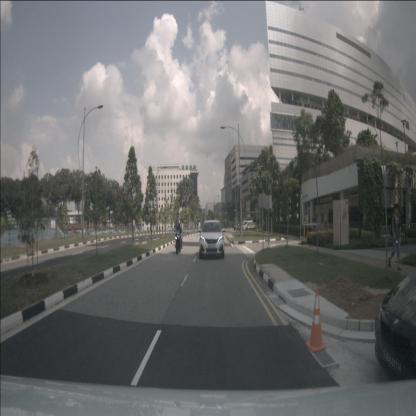human-pedestrian-adult: (388, 203, 402, 271)
movable_object-trafficcone: (306, 288, 327, 352)
vehicle-car: (374, 266, 416, 387), (199, 220, 224, 259), (233, 222, 242, 232)
vehicle-motorcycle: (173, 219, 183, 255)
vehicle-truck: (241, 220, 257, 231)
